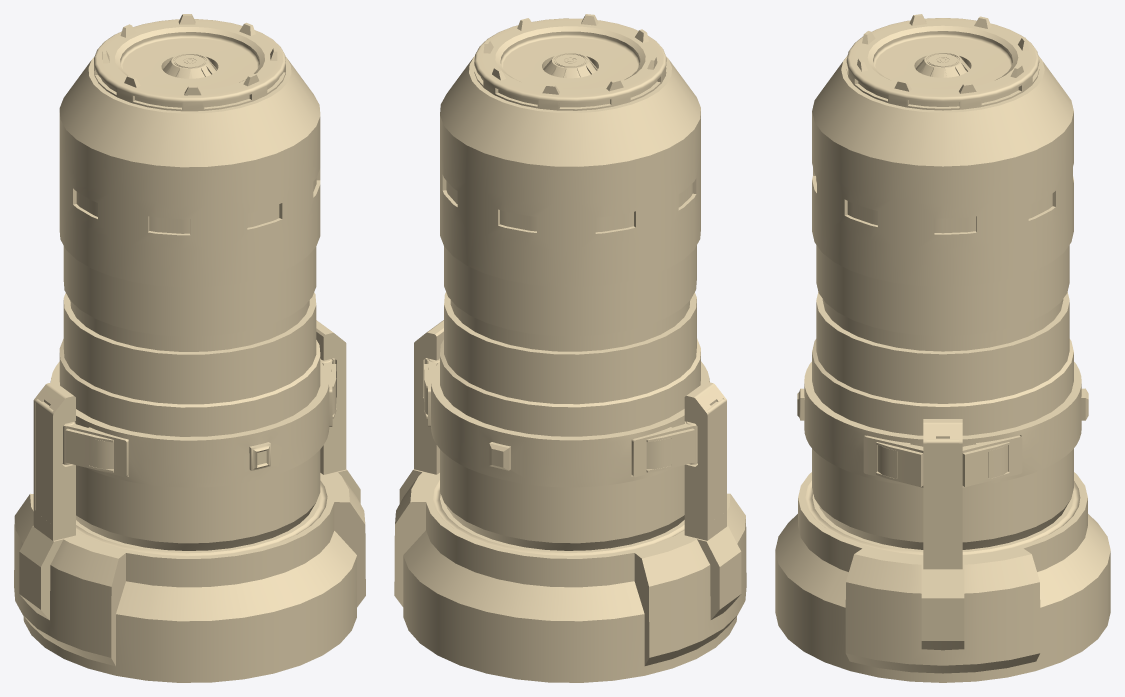
File: cargo_box4.fbx
3 views of the same model, side by side, from view 1: azimuth 30°, elevation 25°; view 2: azimuth 150°, elevation 25°; view 3: azimuth 270°, elevation 25° (orthographic).
Visible parts, largest first — view 1: Cylinder.016, Cylinder.012, Cylinder.014, Cylinder.017, Cylinder.019, Cylinder.020; view 2: Cylinder.016, Cylinder.012, Cylinder.014, Cylinder.017, Cylinder.019, Cylinder.020; view 3: Cylinder.016, Cylinder.012, Cylinder.014, Cylinder.019, Cylinder.017, Cylinder.020.
Part boxes in pixels (x1,y1,x2,y2): Cylinder.016: (59, 14, 320, 550); Cylinder.012: (14, 320, 365, 682); Cylinder.014: (50, 361, 329, 487); Cylinder.017: (63, 359, 336, 477); Cylinder.019: (35, 399, 53, 522); Cylinder.020: (89, 382, 335, 469); Cylinder.016: (440, 14, 700, 550); Cylinder.012: (394, 320, 746, 682); Cylinder.014: (431, 361, 709, 487); Cylinder.017: (424, 359, 697, 477); Cylinder.019: (707, 399, 725, 522); Cylinder.020: (424, 382, 671, 469); Cylinder.016: (812, 14, 1073, 549); Cylinder.012: (775, 419, 1110, 682); Cylinder.014: (797, 362, 1088, 485); Cylinder.019: (926, 438, 959, 553); Cylinder.017: (863, 435, 1022, 487); Cylinder.020: (877, 445, 1008, 478).
Bounding box in the file's own units: 116 × 195 × 106.
